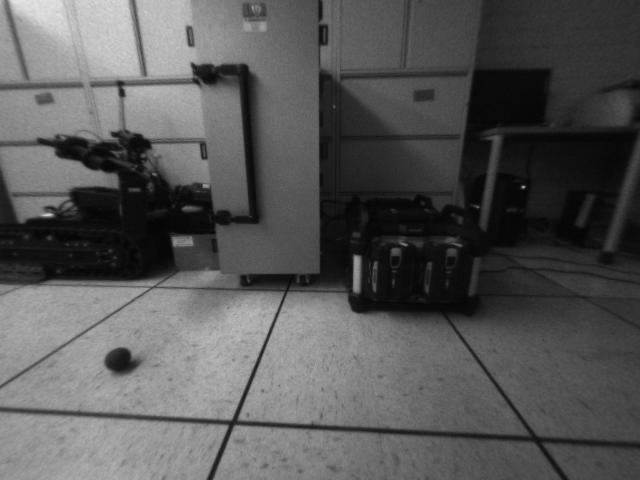dogtoy: (99, 336, 139, 376)
